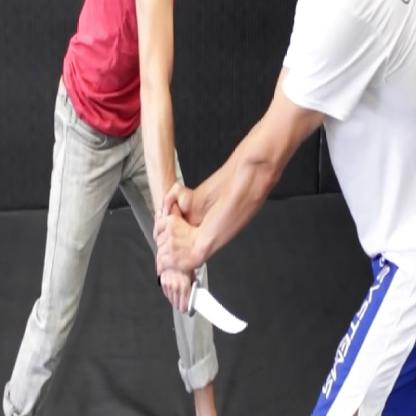knife: (154, 266, 250, 344)
